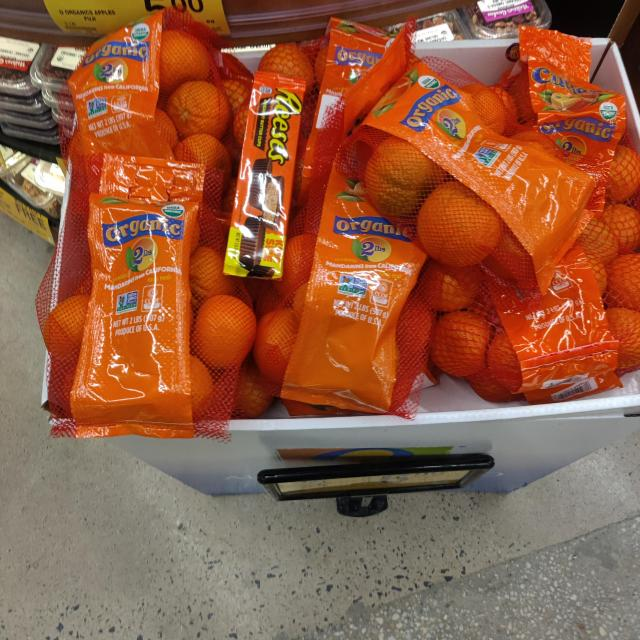Clementine: (56, 152, 257, 447), (415, 211, 640, 420), (368, 66, 587, 277), (276, 168, 428, 434), (56, 19, 248, 166)
